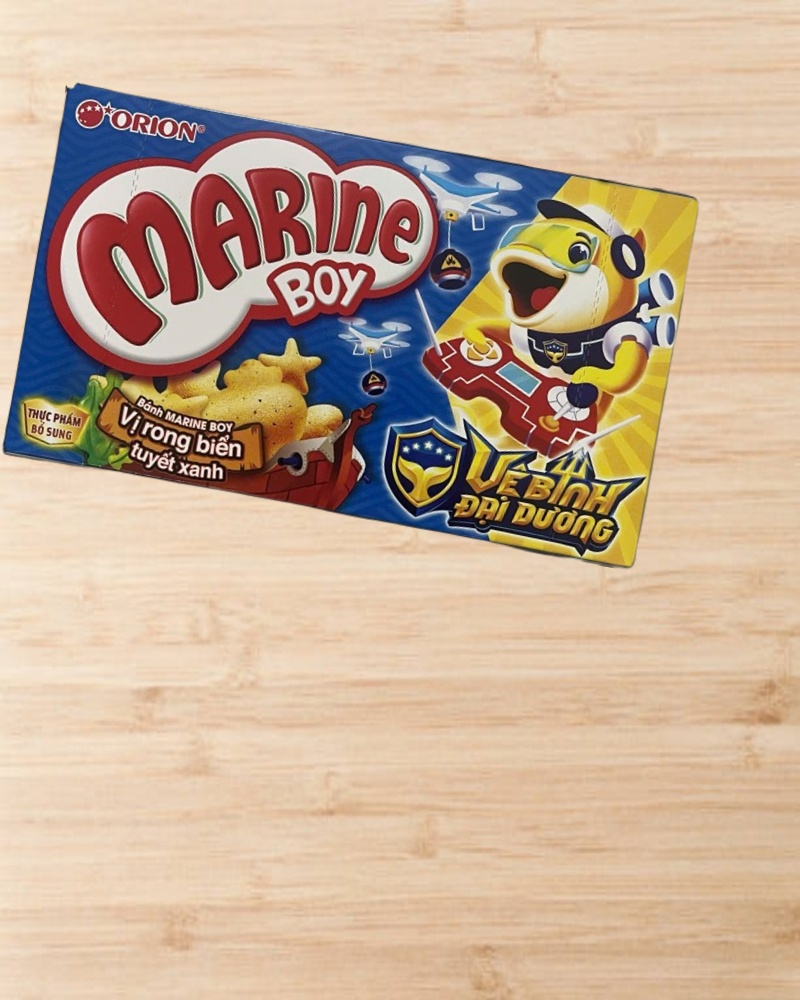Marine: (3, 82, 703, 571)
